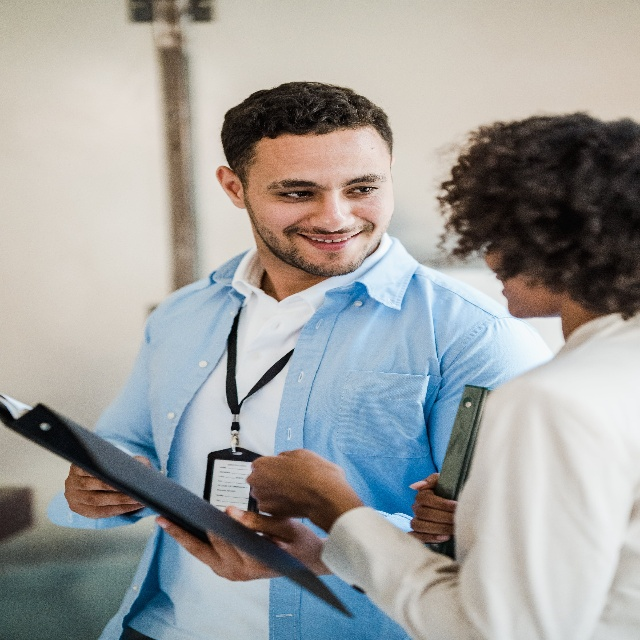Sin_guantes: (154, 505, 321, 585), (247, 447, 346, 522), (64, 456, 151, 520), (408, 473, 458, 545)
